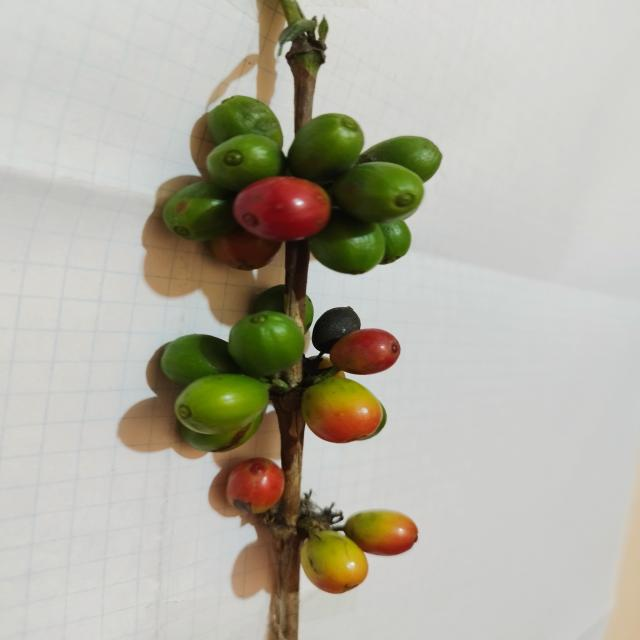Danado: (226, 458, 285, 514), (311, 307, 361, 354)
Sano: (232, 177, 330, 244), (174, 374, 269, 436), (329, 162, 423, 224), (301, 375, 381, 443), (227, 312, 305, 377), (300, 530, 368, 594), (343, 511, 418, 556)
